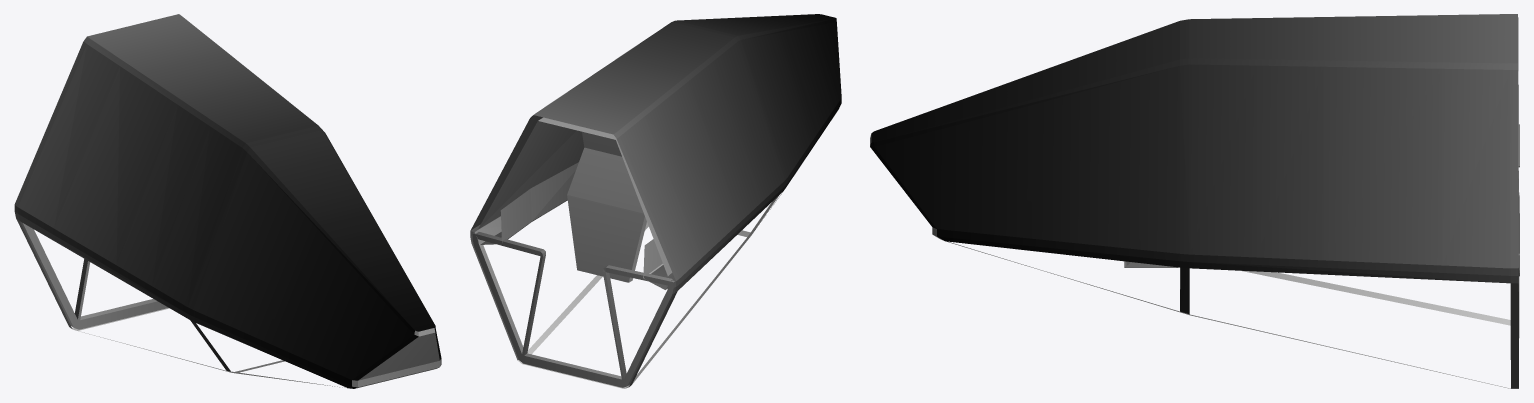
The model's file is cockpit.obj.
The picture shows the model from 3 angles, left to right: view 1: azimuth 30°, elevation 25°; view 2: azimuth 150°, elevation 25°; view 3: azimuth 270°, elevation 25°; orthographic projection. The views are drawn at different scales.
Visible parts, largest first — view 1: cockpit; view 2: cockpit; view 3: cockpit.
Part boxes in pixels (x1,y1,x2,y2): cockpit: (14, 14, 441, 388); cockpit: (470, 14, 841, 388); cockpit: (870, 14, 1519, 388).
Size of the model in its own units: 3.03 by 3.54 by 6.54.
